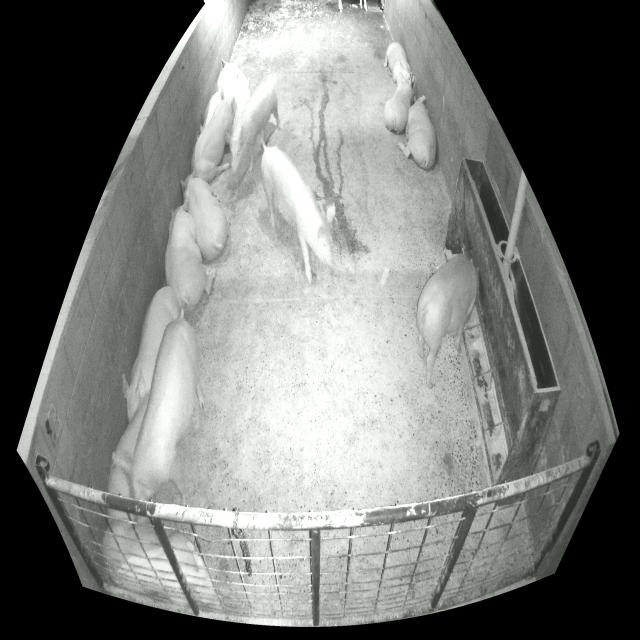pig: (132, 309, 205, 506), (261, 142, 336, 284), (103, 519, 215, 609), (122, 287, 181, 423), (418, 252, 476, 388), (190, 84, 237, 184), (229, 82, 280, 174), (108, 390, 150, 497), (164, 198, 204, 310), (181, 169, 227, 261), (397, 95, 436, 169), (215, 59, 251, 111), (385, 75, 415, 134), (384, 42, 411, 86), (200, 92, 221, 133)
